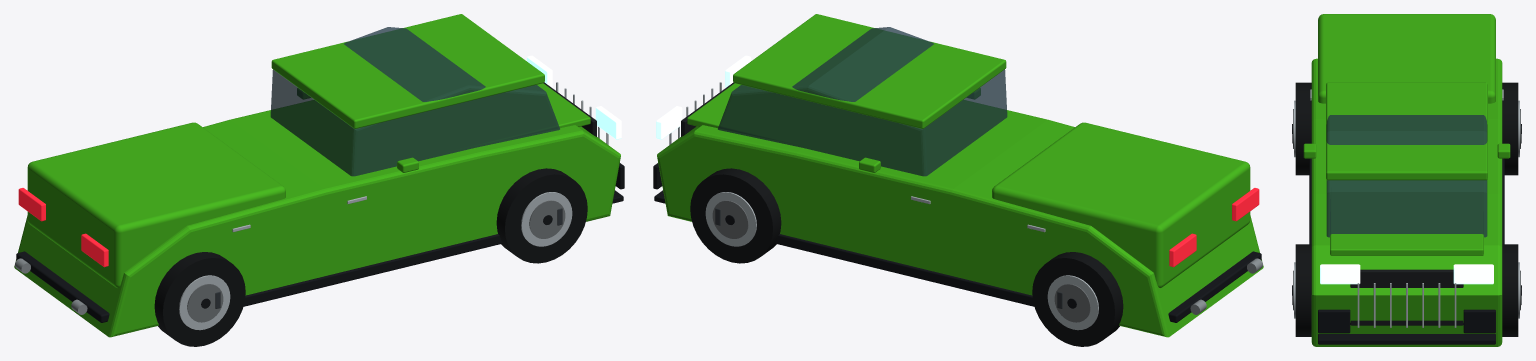
Rendered from chevy_low_cab_forward.glb.
3 renders of one model, left to right at view 1: azimuth 30°, elevation 25°; view 2: azimuth 150°, elevation 25°; view 3: azimuth 270°, elevation 25°, orthographic. The views are drawn at different scales.
Visible parts, largest first — view 1: sculpted_body, pickup_bed, cab, cab_roof, hood_center, rear_right_wheel_tire, front_right_wheel_tire, side_skirt_1, rear_diffuser, rear_right_wheel_rim, front_right_wheel_rim, rear_right_wheel_disc (+4 smaller); view 2: sculpted_body, pickup_bed, cab, cab_roof, hood_center, rear_left_wheel_tire, front_left_wheel_tire, side_skirt_-1, rear_diffuser, rear_left_wheel_rim, front_left_wheel_rim, rear_left_wheel_disc (+4 smaller); view 3: cab_roof, sculpted_body, cab, pickup_bed, hood_center, front_grille, front_splitter, front_left_wheel_tire, front_right_wheel_tire, rear_left_wheel_tire, rear_right_wheel_tire, headlight_left (+7 smaller).
Part boxes in pixels (box(x1,y1,x2,y2)): sculpted_body: box(14, 100, 620, 337); pickup_bed: box(27, 122, 285, 287); cab: box(270, 27, 559, 176); cab_roof: box(271, 14, 544, 128); hood_center: box(399, 83, 590, 151); rear_right_wheel_tire: box(154, 252, 245, 346); front_right_wheel_tire: box(496, 168, 587, 263); side_skirt_1: box(243, 234, 502, 306); rear_diffuser: box(16, 251, 109, 322); rear_right_wheel_rim: box(179, 275, 230, 330); front_right_wheel_rim: box(521, 192, 572, 246); rear_right_wheel_disc: box(187, 284, 223, 322); sculpted_body: box(657, 100, 1263, 337); pickup_bed: box(992, 122, 1250, 287); cab: box(718, 27, 1007, 176); cab_roof: box(733, 14, 1006, 128); hood_center: box(687, 83, 878, 151); rear_left_wheel_tire: box(1032, 252, 1123, 346); front_left_wheel_tire: box(690, 168, 781, 263); side_skirt_-1: box(775, 234, 1034, 306); rear_diffuser: box(1168, 251, 1261, 322); rear_left_wheel_rim: box(1047, 275, 1098, 330); front_left_wheel_rim: box(705, 192, 756, 246); rear_left_wheel_disc: box(1054, 284, 1090, 322); cab_roof: box(1326, 82, 1487, 180); sculpted_body: box(1311, 58, 1502, 346); cab: box(1326, 115, 1487, 237); pickup_bed: box(1318, 14, 1495, 103); hood_center: box(1330, 181, 1483, 255); front_grille: box(1350, 269, 1463, 325); front_splitter: box(1318, 334, 1495, 344); front_left_wheel_tire: box(1502, 244, 1518, 336); front_right_wheel_tire: box(1295, 244, 1311, 336); rear_left_wheel_tire: box(1502, 82, 1518, 175); rear_right_wheel_tire: box(1295, 82, 1311, 175); headlight_left: box(1453, 264, 1493, 284).
Bounding box in the file's own units: 6.08 × 1.94 × 2.33.
